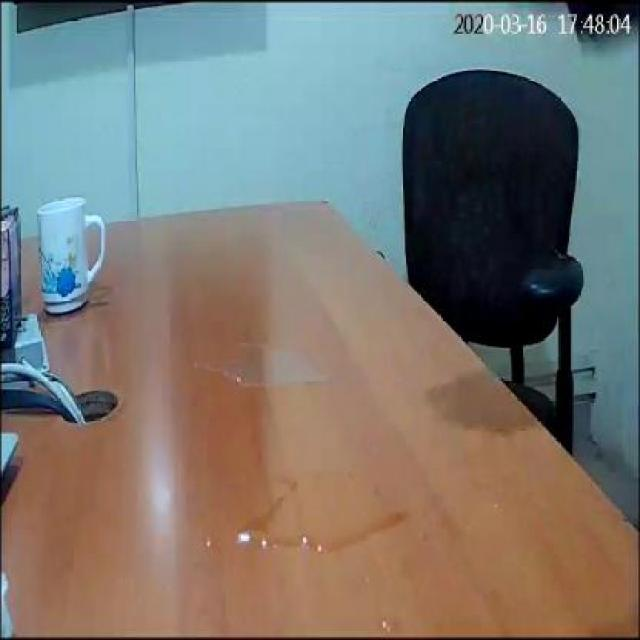spill: (239, 477, 407, 555), (197, 346, 331, 392)
